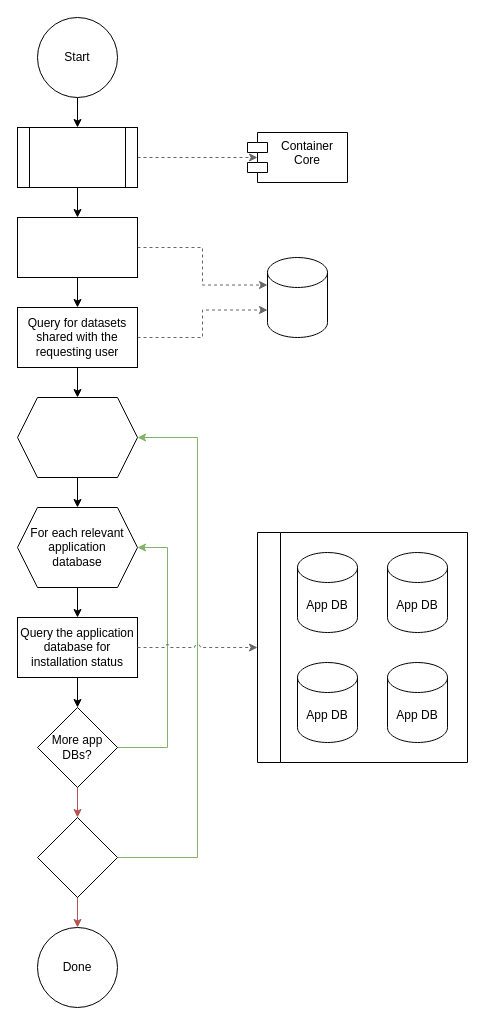
Some shapes in this 485 by 1025 pixel diagram are drawn without their labels. Each missing label, with the box of its shape:
Application Databases: (256, 532, 468, 762)
For each dataset found: (16, 396, 138, 478)
More user datasets?: (36, 816, 118, 898)
Postgres DB: (266, 256, 328, 338)
Query for datasets owned by the requesting user: (16, 216, 138, 278)
Verify request user: (16, 126, 138, 188)
